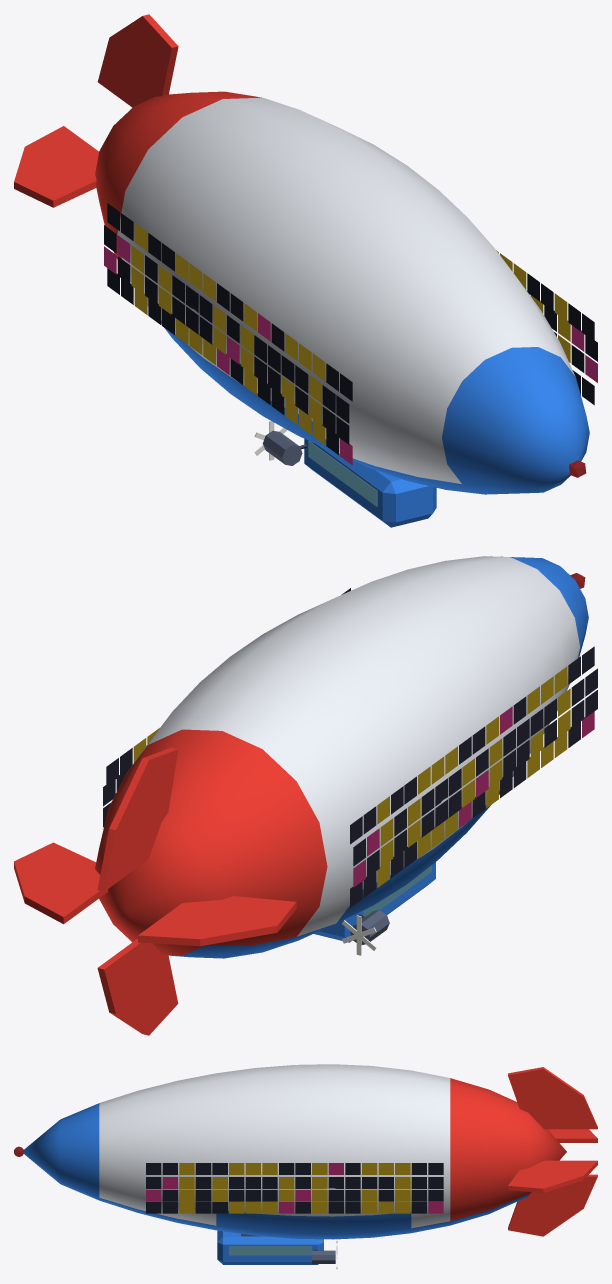
Rendered from blimp.glb.
The picture shows the model from 3 angles, top to bottom: view 1: azimuth 30°, elevation 25°; view 2: azimuth 150°, elevation 25°; view 3: azimuth 270°, elevation 25°; orthographic projection. The views are drawn at different scales.
Visible parts, largest first — view 1: blimp; view 2: blimp; view 3: blimp.
Part boxes in pixels (x1,y1,x2,y2): blimp: (14,14,597,527); blimp: (14,556,597,1035); blimp: (14,1064,597,1269).
Size of the model in its own units: 15.6 by 17.8 by 49.23.
Materials: 2 (2 with a texture image).
